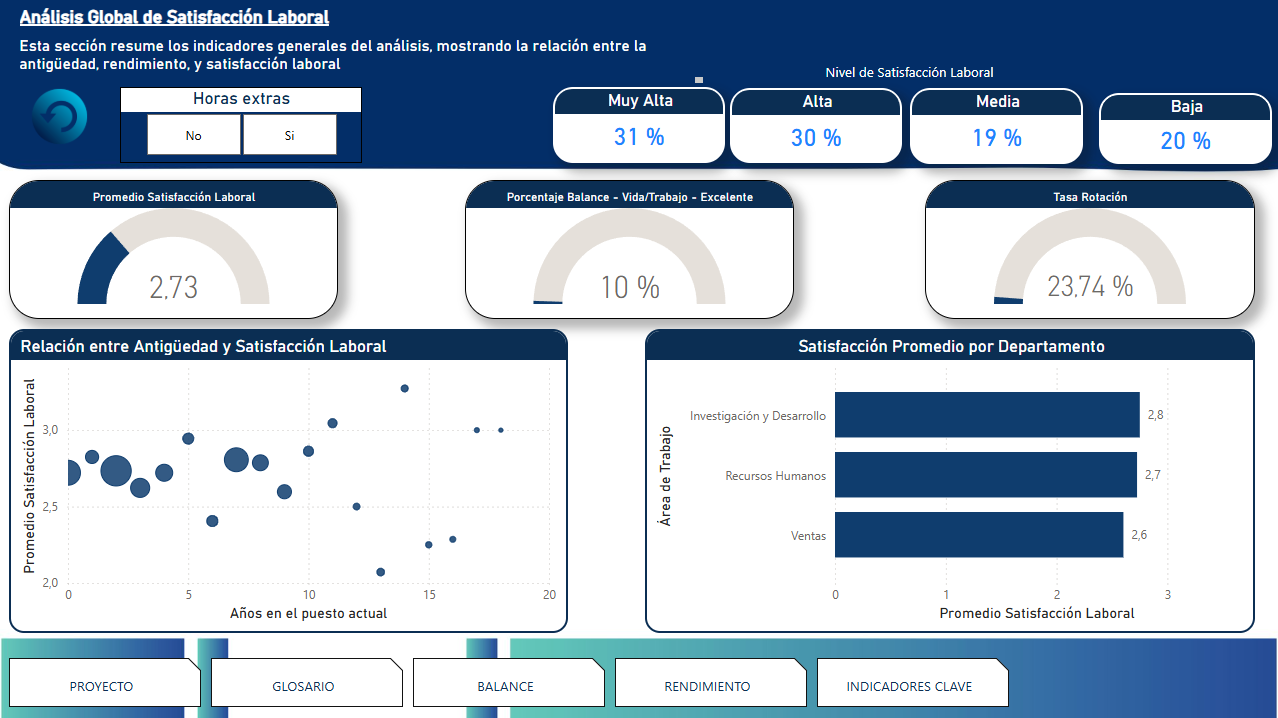

This screenshot's page, from the dashboard's own definition file:
{"tool":"powerbi","page":{"name":"GLOBAL","canvas":[1280,720],"ordinal":2},"visuals":[{"type":"gauge","fields":{"Y":["Tabla Medidas.Promedio Satisfacción Laboral"]},"box":[9.9,179.6,329.5,139.2],"z":0},{"type":"gauge","title":"Porcentaje Balance - Vida/Trabajo -  Excelente","fields":{"Y":["Tabla Medidas.Porcentaje Balance Excelente"]},"box":[465.9,179.6,329.5,139.2],"z":1000},{"type":"gauge","fields":{"Y":["Tabla Medidas.Tasa_Rotación"]},"box":[926.5,179.6,329.5,139.2],"z":2000},{"type":"barChart","title":"Satisfacción Promedio por Departamento","fields":{"Y":["Tabla Medidas.Promedio Satisfacción Laboral"],"Category":["Área de Trabajo.Área de Trabajo"]},"box":[646.4,329.5,609.6,303.4],"z":3000},{"type":"scatterChart","title":"Relación entre Antigüedad y Satisfacción Laboral","fields":{"X":["HR-Employee.Años en el puesto actual"],"Size":["CountNonNull(HR-Employee.ID_Empleado)"],"Y":["Tabla Medidas.Promedio Satisfacción Laboral"]},"box":[9.9,329.5,559.3,303.4],"z":4000},{"type":"card","title":"Muy Alta","fields":{"Values":["Tabla Medidas.Satisfaccion_Excelente"]},"box":[553.9,87.1,172.4,76.3],"z":5000},{"type":"card","title":"Alta","fields":{"Values":["Tabla Medidas.Satisfaccion Alta"]},"box":[730.8,88,172.4,75.4],"z":6000},{"type":"card","title":"Media","fields":{"Values":["Tabla Medidas.Satisfaccion Media"]},"box":[911.2,88,172.4,76.3],"z":7000},{"type":"card","title":"Baja","fields":{"Values":["Tabla Medidas.Satisfaccion Baja"]},"box":[1099.8,93.4,173.3,70.9],"z":8000},{"type":"textbox","title":"Análisis Global de Satisfacción Laboral","box":[15.7,6,329.4,30.2],"z":9000},{"type":"textbox","title":"Esta sección resume los indicadores generales del análisis, mostrando la relación entre la antigüedad, rendimiento, y satisfacción laboral","box":[15.7,36.2,693.7,51.9],"z":10000},{"type":"slicer","title":"Horas extras","fields":{"Values":["Horas extra.Horas extra"]},"box":[121.2,87.1,241.5,76.3],"z":11000},{"type":"pageNavigator","box":[9.9,658.1,1000.1,49.4],"z":12000},{"type":"textbox","box":[799,58.4,224.4,28.7],"z":13000},{"type":"image","box":[26,80.8,69.1,70.9],"z":14000}]}

Visuals, with their boxes in screenshot pixels (x1, y1, x2, y2), scaled from the page's 1280x720 canvas onto the 1278x718 screenshot:
gauge - Tabla Medidas.Promedio Satisfacción Laboral: left=10, top=179, right=339, bottom=318
"Porcentaje Balance - Vida/Trabajo -  Excelente" gauge: left=465, top=179, right=794, bottom=318
gauge - Tabla Medidas.Tasa_Rotación: left=925, top=179, right=1254, bottom=318
"Satisfacción Promedio por Departamento" barChart: left=645, top=329, right=1254, bottom=631
"Relación entre Antigüedad y Satisfacción Laboral" scatterChart: left=10, top=329, right=568, bottom=631
"Muy Alta" card: left=553, top=87, right=725, bottom=163
"Alta" card: left=730, top=88, right=902, bottom=163
"Media" card: left=910, top=88, right=1082, bottom=164
"Baja" card: left=1098, top=93, right=1271, bottom=164
"Análisis Global de Satisfacción Laboral" textbox: left=16, top=6, right=345, bottom=36
"Esta sección resume los indicadores generales del análisis, mostrando la relación entre la antigüedad, rendimiento, y satisfacción laboral" textbox: left=16, top=36, right=708, bottom=88
"Horas extras" slicer: left=121, top=87, right=362, bottom=163
pageNavigator: left=10, top=656, right=1008, bottom=706
textbox: left=798, top=58, right=1022, bottom=87
image: left=26, top=81, right=95, bottom=151
